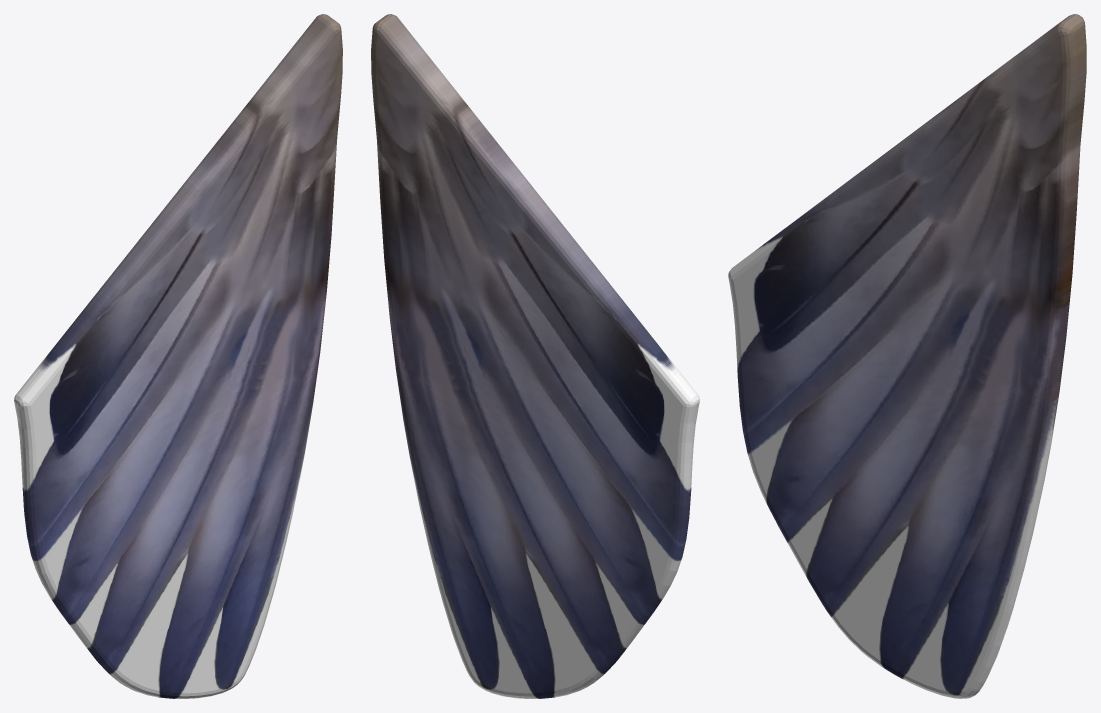
The model's file is left_hand_wing_texture.dae.
The picture shows the model from 3 angles, left to right: view 1: azimuth 30°, elevation 25°; view 2: azimuth 150°, elevation 25°; view 3: azimuth 330°, elevation 25°; orthographic projection. The views are drawn at different scales.
Visible parts, largest first — view 1: SketchUp; view 2: SketchUp; view 3: SketchUp.
Part boxes in pixels (x1,y1,x2,y2): SketchUp: [14, 14, 342, 698]; SketchUp: [371, 14, 699, 698]; SketchUp: [728, 14, 1086, 698].
Bounding box in the file's own units: 4.66 × 0.4541 × 9.01.
Materials: 1 (1 with a texture image).
